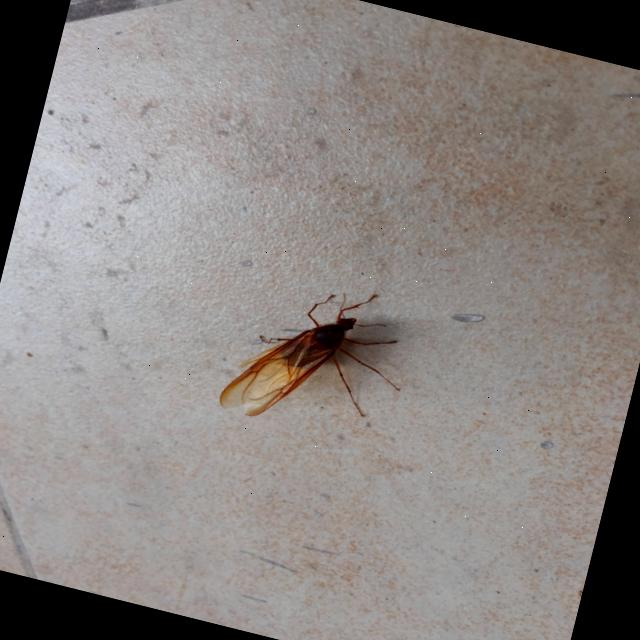Alive-Male-Alate: (216, 263, 422, 450)
